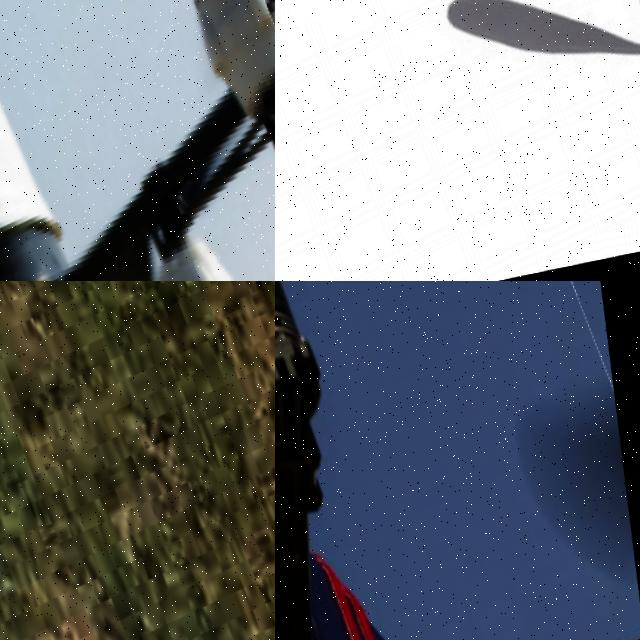drone: (275, 281, 640, 640), (275, 0, 640, 281), (0, 281, 275, 640), (0, 0, 275, 281)
